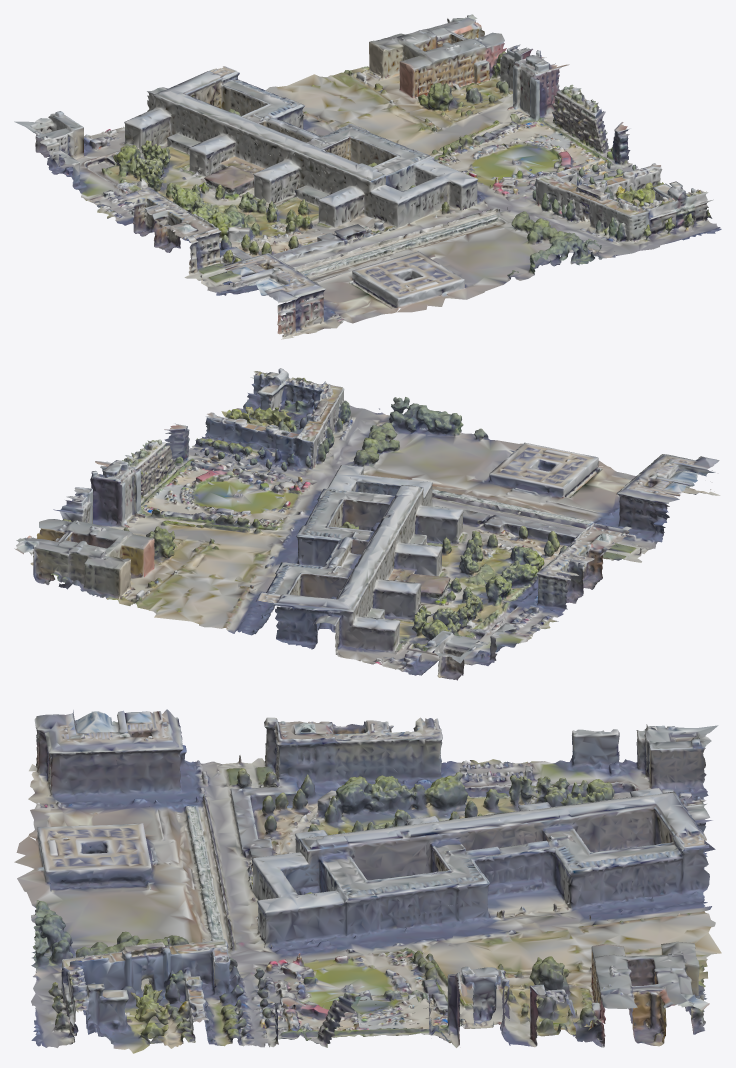
The model's file is surface-detail-3901_58185.glb.
3 renders of one model, top to bottom at view 1: azimuth 30°, elevation 25°; view 2: azimuth 150°, elevation 25°; view 3: azimuth 270°, elevation 25°, orthographic. The views are drawn at different scales.
Visible parts, largest first — view 1: world; view 2: world; view 3: world.
Boxes of the visible parts, box(x1,y1,x2,y2) form: world: box(14, 14, 721, 339); world: box(14, 368, 720, 680); world: box(14, 709, 721, 1053).
Bounding box in the file's own units: 387 × 43.91 × 383.
